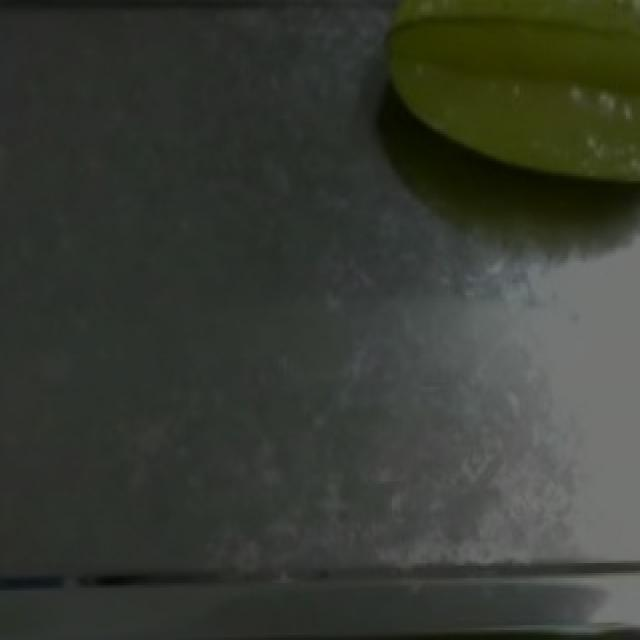fruit: (366, 0, 640, 213)
